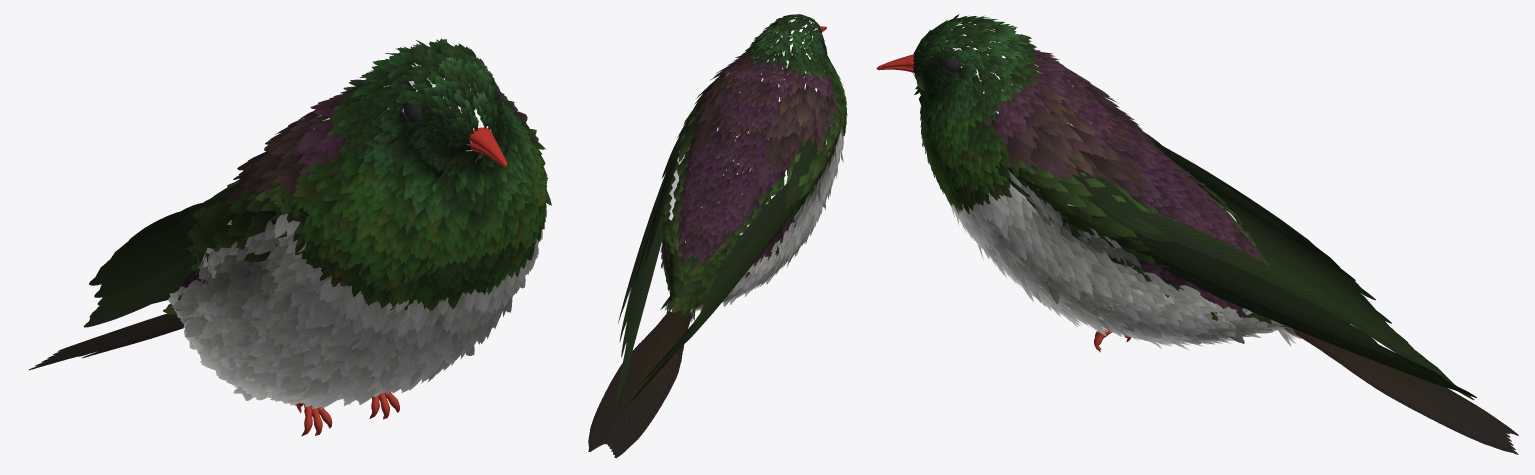
The model's file is manu-kereru.glb.
3 views of the same model, side by side, from view 1: azimuth 30°, elevation 25°; view 2: azimuth 150°, elevation 25°; view 3: azimuth 270°, elevation 25° (orthographic). The views are drawn at different scales.
Visible parts, largest first — view 1: contour_feathers, wing_and_tail_feathers, legs_and_feet, bill; view 2: contour_feathers, wing_and_tail_feathers, body_skin; view 3: contour_feathers, wing_and_tail_feathers.
Boxes of the visible parts, box(x1,y1,x2,y2) form: contour_feathers: box(163, 38, 551, 409); wing_and_tail_feathers: box(29, 134, 538, 370); legs_and_feet: box(296, 84, 500, 436); bill: box(468, 127, 507, 166); contour_feathers: box(660, 14, 847, 322); wing_and_tail_feathers: box(588, 92, 842, 458); body_skin: box(668, 17, 834, 242); contour_feathers: box(913, 14, 1301, 350); wing_and_tail_feathers: box(995, 129, 1518, 454).
Size of the model in its own units: 0.0648 by 0.1294 by 0.1769.
Materials: 4 (1 with a texture image).
